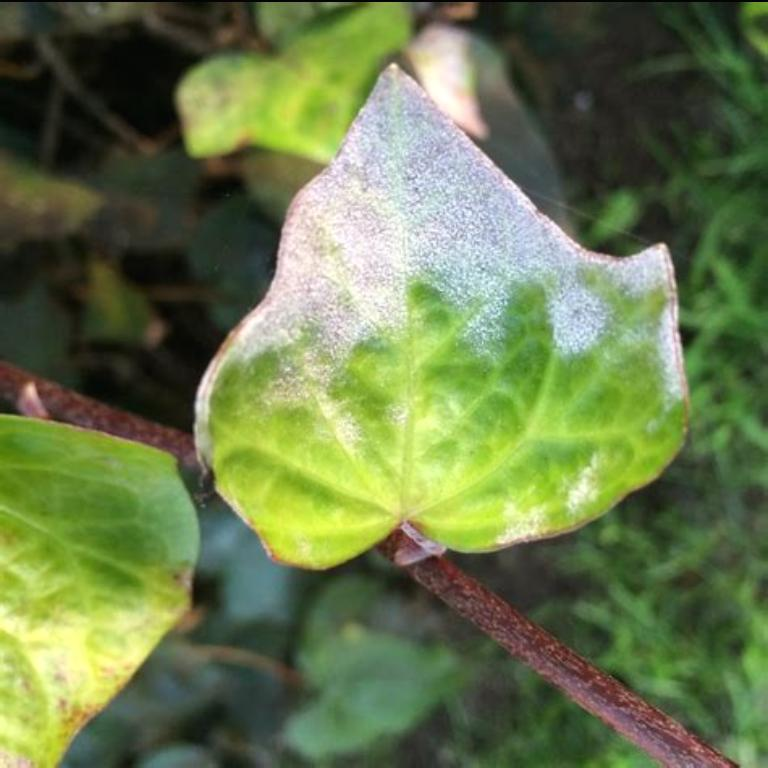powdery-mildew: (318, 174, 492, 342)
